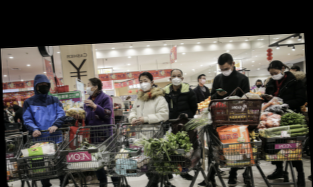with_mask: (137, 78, 151, 93), (267, 70, 284, 81), (37, 81, 50, 95), (218, 66, 233, 78), (170, 73, 182, 88), (84, 81, 94, 97), (198, 76, 207, 86), (255, 81, 262, 89), (7, 108, 13, 114), (127, 98, 131, 102), (4, 108, 8, 112)
